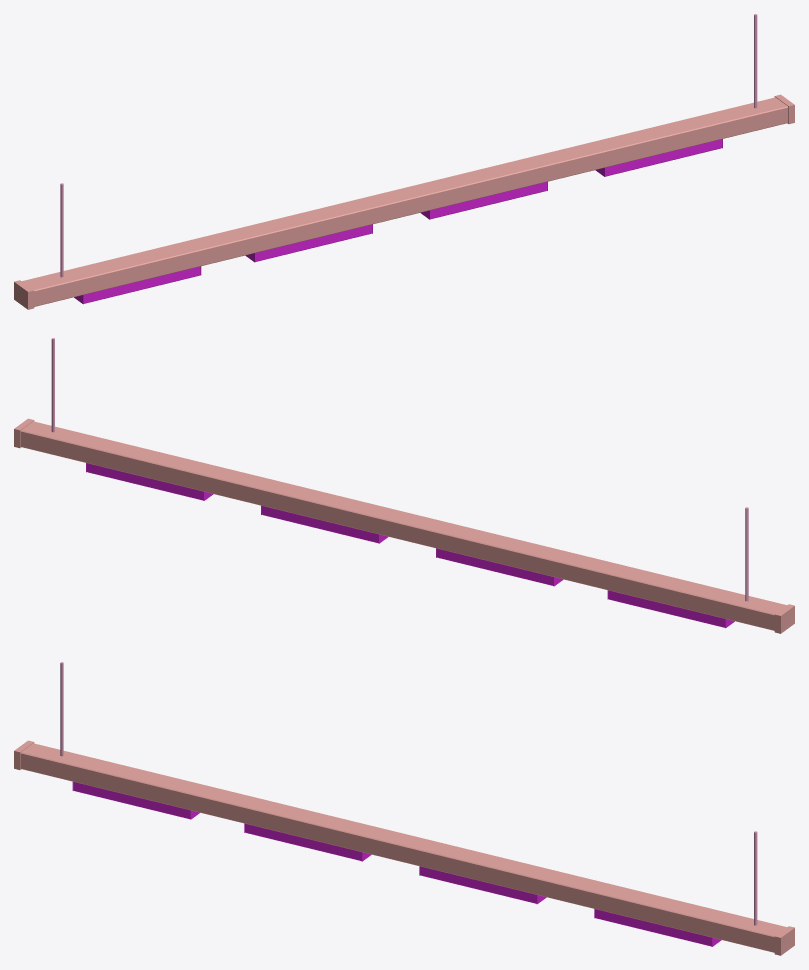
The model's file is lambC.fbx.
3 renders of one model, top to bottom at view 1: azimuth 30°, elevation 25°; view 2: azimuth 150°, elevation 25°; view 3: azimuth 330°, elevation 25°, orthographic.
Visible parts, largest first — view 1: lambC; view 2: lambC; view 3: lambC.
Part boxes in pixels (x1,y1,x2,y2): lambC: (14,14,794,309); lambC: (14,338,794,633); lambC: (14,662,794,955).
Size of the model in its own units: 487 by 73.39 by 15.56.
